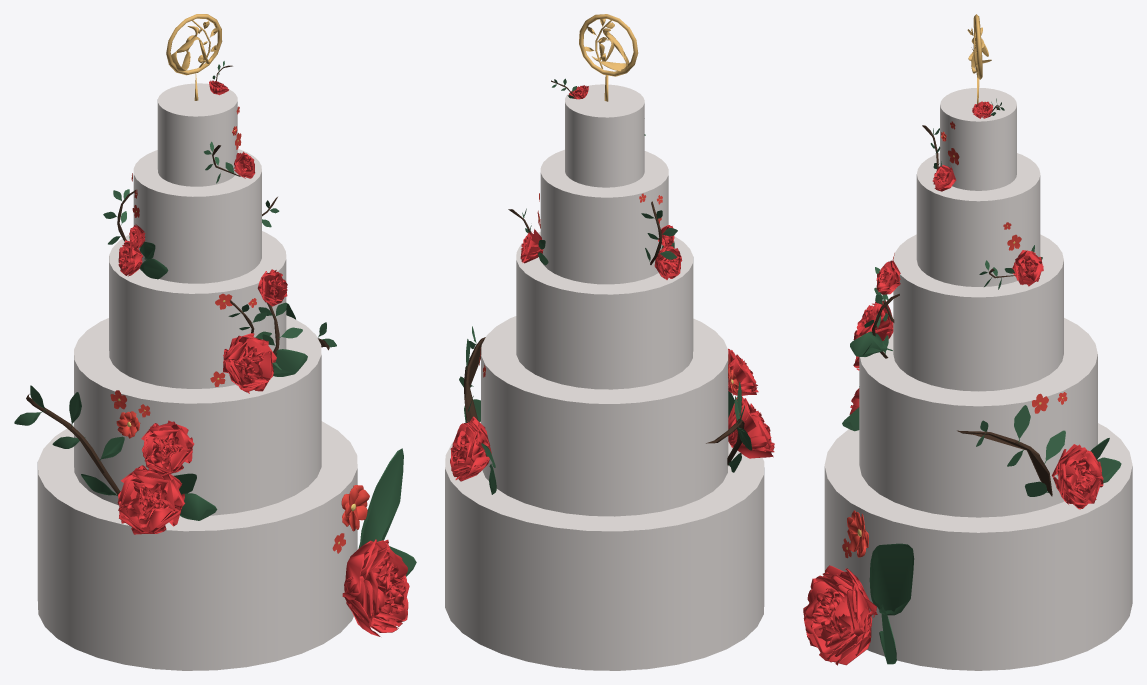
Rendered from 5-tier-white.glb.
3 renders of one model, left to right at view 1: azimuth 30°, elevation 25°; view 2: azimuth 150°, elevation 25°; view 3: azimuth 270°, elevation 25°, orthographic.
Parts seen in each view (by area): view 1: Cylinder, Cylinder.001, Cylinder.002, Cylinder.003, Cylinder.004, grid.002, grid.001, Plane.017, grid.005, Plane.015, grid.004, Cylinder.005 (+6 smaller); view 2: Cylinder, Cylinder.001, Cylinder.002, Cylinder.003, Cylinder.004, Cylinder.005, grid.009, grid.001, Plane.033, Plane.017, grid.004, grid.006 (+2 smaller); view 3: Cylinder, Cylinder.001, Cylinder.002, Cylinder.003, Cylinder.004, grid.002, Plane.015, grid.009, Plane.033, grid.005, grid.008, Cylinder.005 (+4 smaller).
Part boxes in pixels (x1,y1,x2,y2): Cylinder: (37,421,357,670); Cylinder.001: (74,315,321,515); Cylinder.002: (109,231,286,388); Cylinder.003: (133,149,261,283); Cylinder.004: (157,83,237,186); grid.002: (342,539,409,636); grid.001: (117,465,184,534); Plane.017: (14,385,124,495); grid.005: (223,333,276,393); Plane.015: (358,448,403,548); grid.004: (141,420,194,476); Cylinder.005: (166,14,222,100); Cylinder: (445,421,764,670); Cylinder.001: (481,316,728,516); Cylinder.002: (516,232,693,389); Cylinder.003: (540,149,668,284); Cylinder.004: (565,84,644,187); Cylinder.005: (579,14,638,101); grid.009: (450,416,491,481); grid.001: (728,396,774,458); Plane.033: (459,326,485,422); Plane.017: (706,381,751,472); grid.004: (728,348,758,395); grid.006: (654,246,682,279); Cylinder: (824,423,1132,670); Cylinder.001: (859,318,1097,517); Cylinder.002: (893,234,1063,391); Cylinder.003: (916,153,1040,286); Cylinder.004: (940,88,1016,190); grid.002: (803,565,877,665); Plane.015: (869,543,914,615); grid.009: (1051,444,1103,509); Plane.033: (957,405,1065,496); grid.005: (853,300,893,340); grid.008: (1012,250,1043,286); Cylinder.005: (967,14,991,104).
Bounding box in the file's own units: 7.07 × 11.64 × 5.94.
